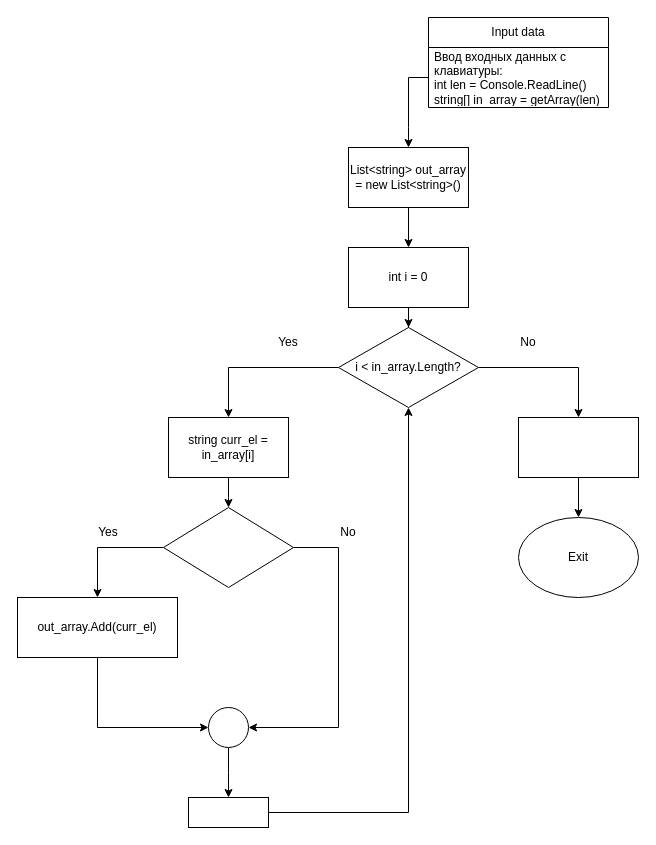
Image size: 656x845. Some labels were removed from this diagram. Here are the shapes that lost their labels. From the top down, the box of each, then its label:
(518, 416, 638, 478): Вывод out_array (через foreach)
(162, 506, 294, 588): curr_el.Length <= 3?
(188, 796, 268, 828): i++
